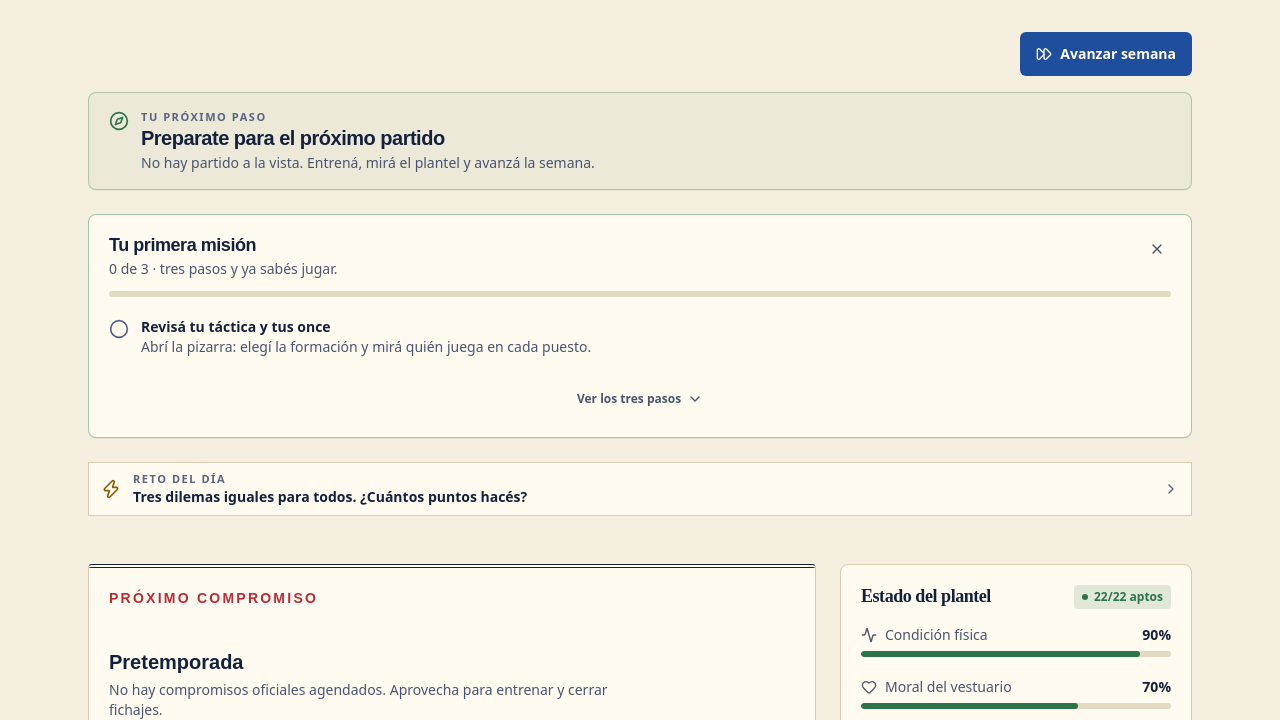
inicio: próximo paso y misión inicial › una cuenta nueva ve la misión con tres pasos; ver la pizarra y jugar los va tildando
expect the text "0 de 3" is shown: met, box x1=109 y1=258 x2=338 y2=278
expect the number of list items is 1: met, box x1=109 y1=316 x2=591 y2=356
Click the button "Ver los tres pasos". click: [640, 398]
box: x1=109 y1=376 x2=1171 y2=420
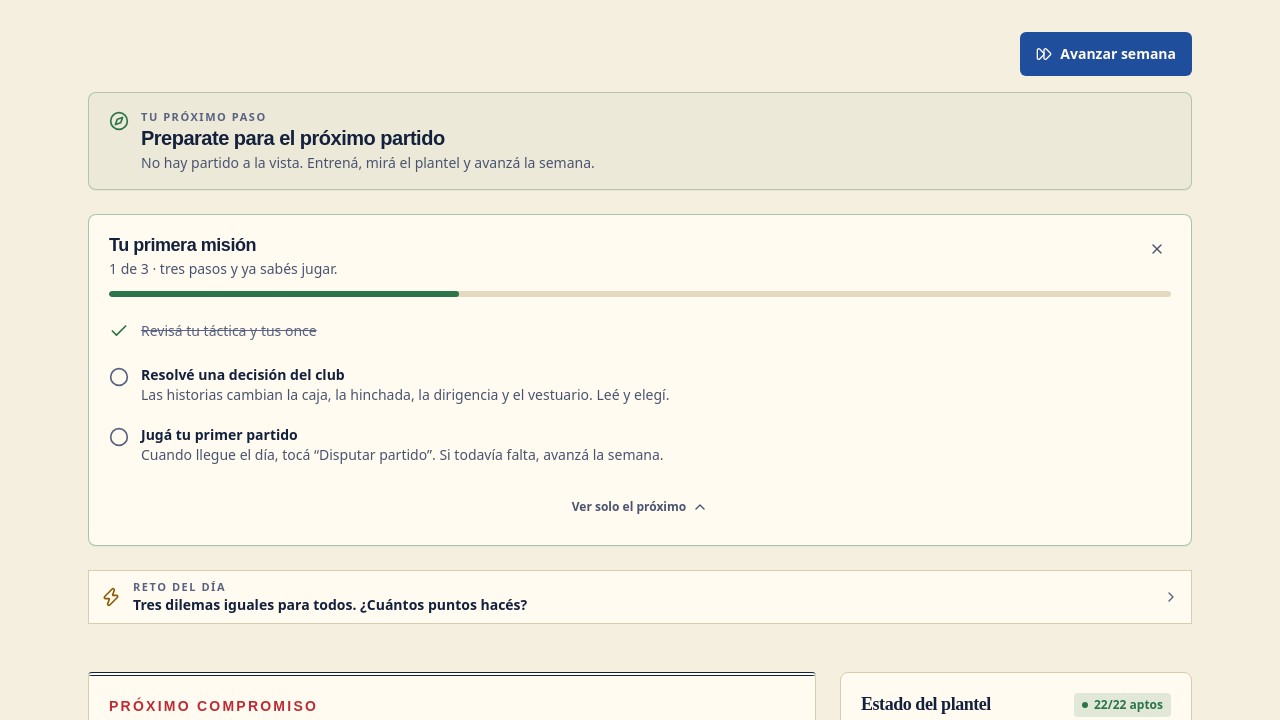
expect the number of list items is 3: met, box x1=108 y1=320 x2=317 y2=349; x1=109 y1=364 x2=669 y2=404; x1=109 y1=424 x2=664 y2=464
expect the text "1 de 3" is shown: met, box x1=109 y1=258 x2=338 y2=278
